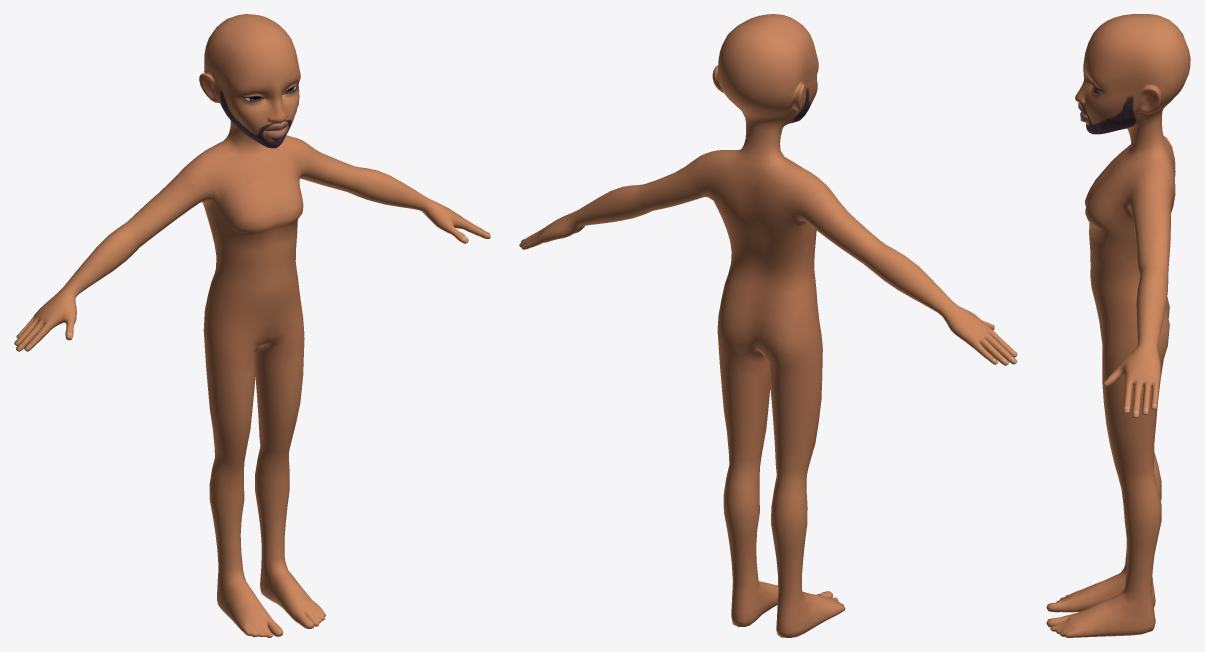
File: frame_0030.glb
3 renders of one model, left to right at view 1: azimuth 30°, elevation 25°; view 2: azimuth 150°, elevation 25°; view 3: azimuth 270°, elevation 25°, orthographic. The views are drawn at different scales.
Parts seen in each view (by area): view 1: frame_0030_head_geo; view 2: frame_0030_head_geo; view 3: frame_0030_head_geo.
Boxes of the visible parts, <box> form: frame_0030_head_geo: <box>14,14,490,637</box>; frame_0030_head_geo: <box>519,14,1017,637</box>; frame_0030_head_geo: <box>1046,14,1190,637</box>.
Size of the model in its own units: 1.28 by 1.5 by 0.3253.
Materials: 3 (3 with a texture image).
